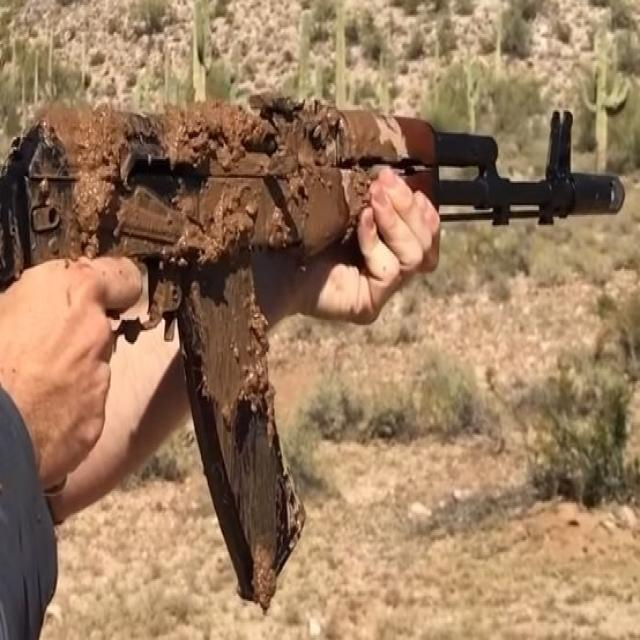ak: (0, 62, 633, 612)
